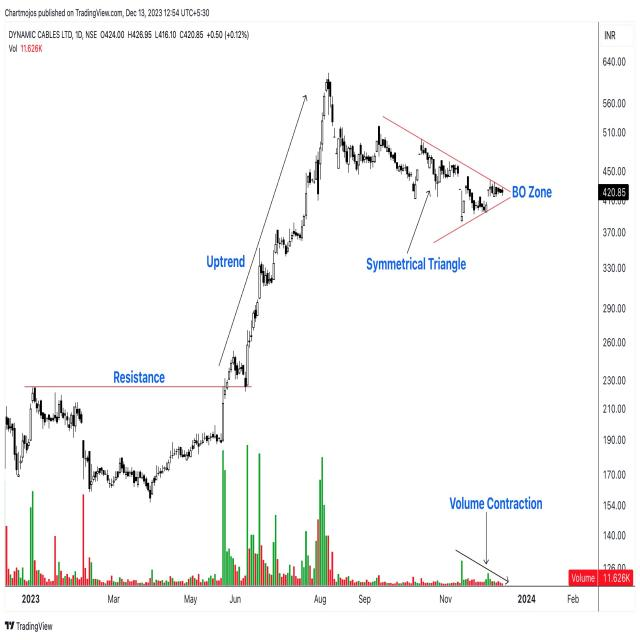Triangle: (297, 66, 512, 313)
